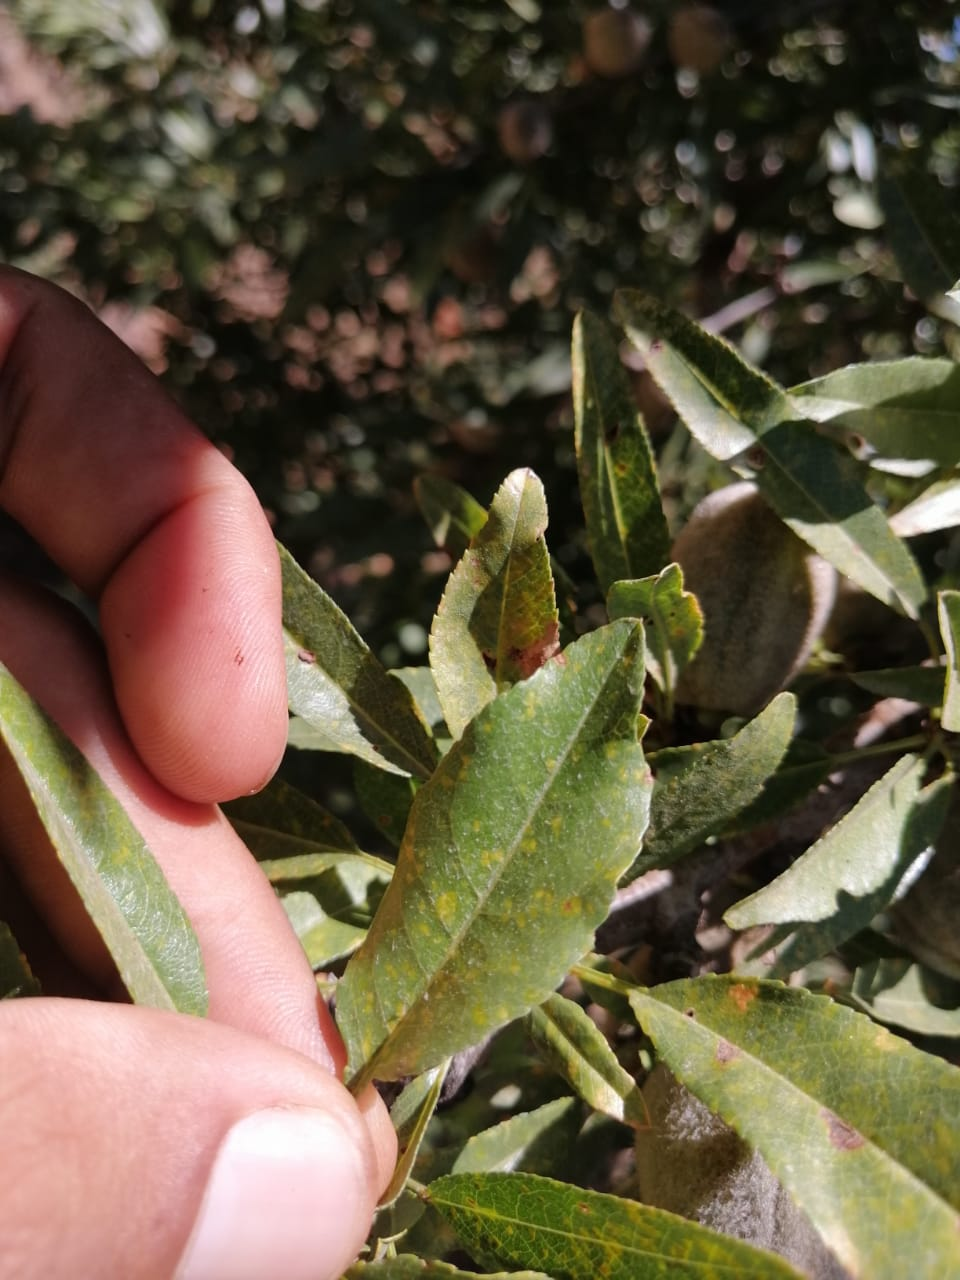rouille: (336, 617, 653, 1079), (622, 973, 960, 1280)
